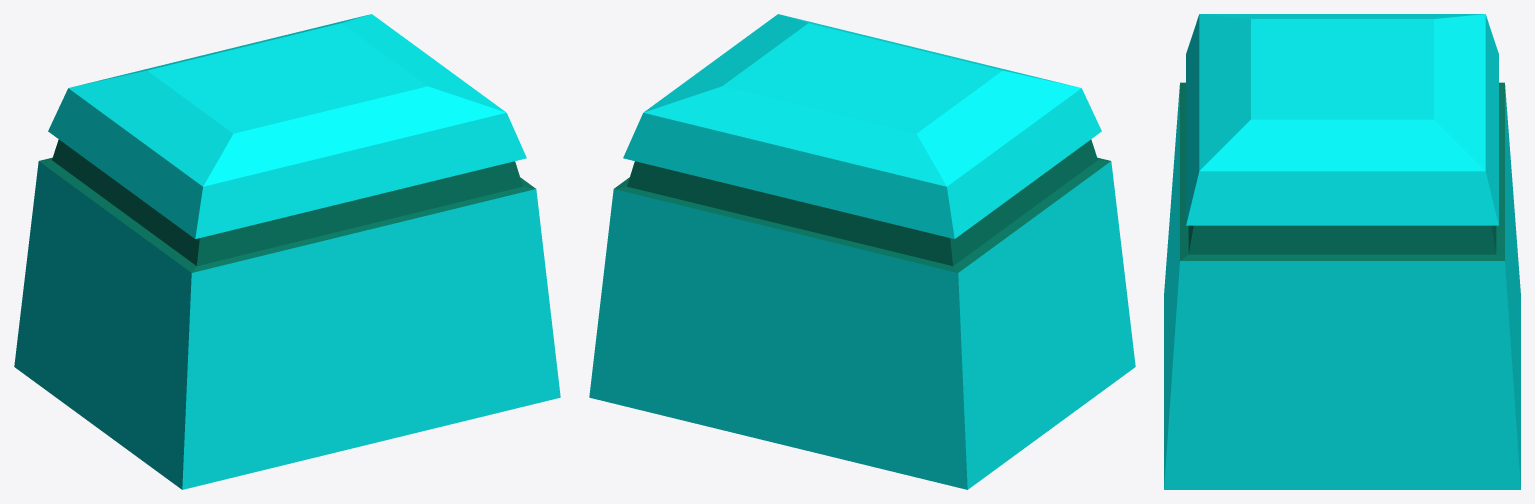
File: AmmoBox.fbx
3 views of the same model, side by side, from view 1: azimuth 30°, elevation 25°; view 2: azimuth 150°, elevation 25°; view 3: azimuth 270°, elevation 25° (orthographic). The views are drawn at different scales.
Visible parts, largest first — view 1: Cube; view 2: Cube; view 3: Cube.
Boxes of the visible parts, x1,y1,x2,y2 form: Cube: [14, 14, 560, 489]; Cube: [589, 14, 1135, 489]; Cube: [1164, 14, 1520, 489].
Bounding box in the file's own units: 104 × 79.8 × 80.
